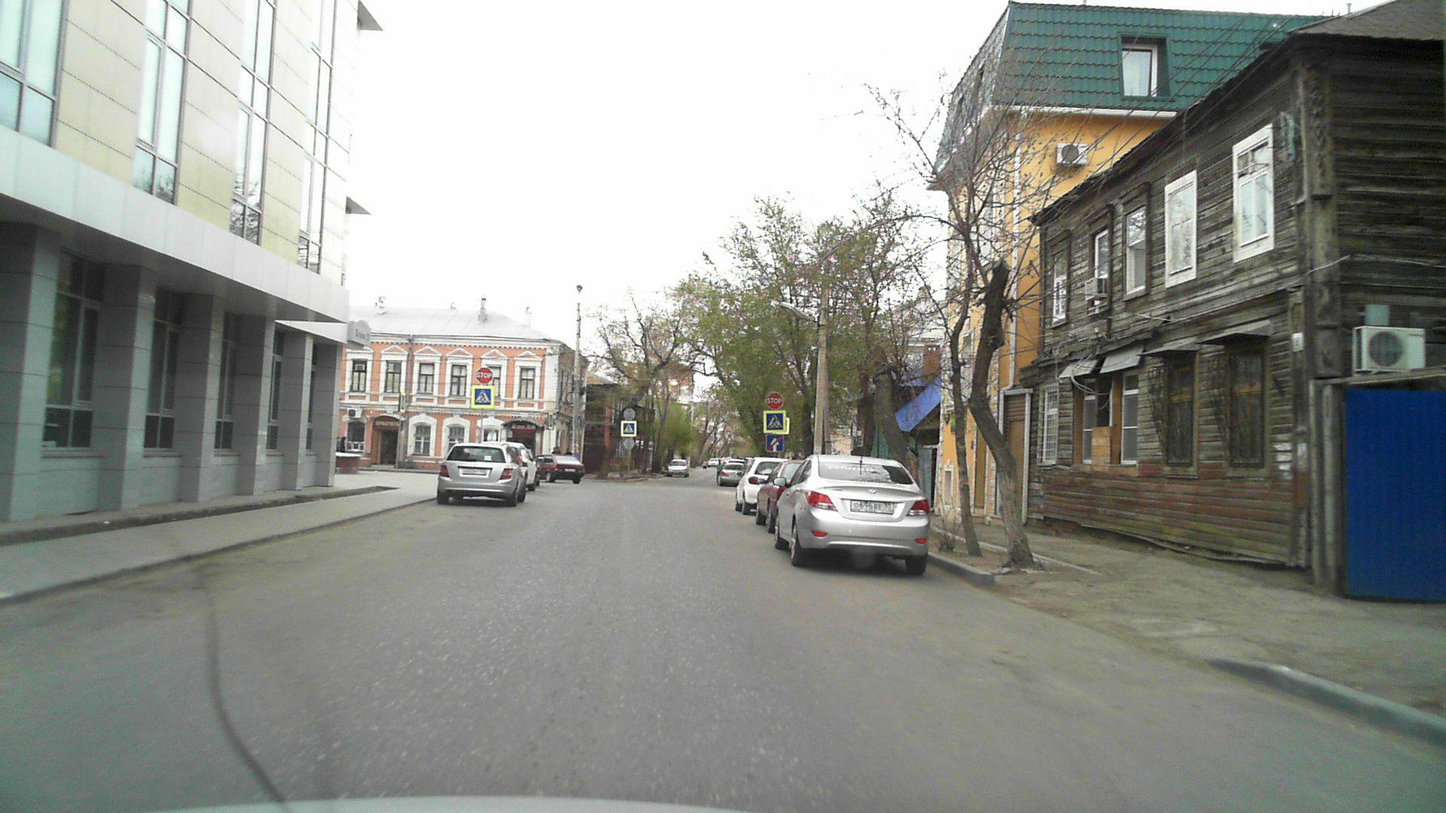road_sign: (471, 384, 495, 409), (763, 410, 786, 433), (765, 434, 784, 452), (476, 366, 494, 384), (766, 392, 783, 409), (621, 421, 637, 437)
